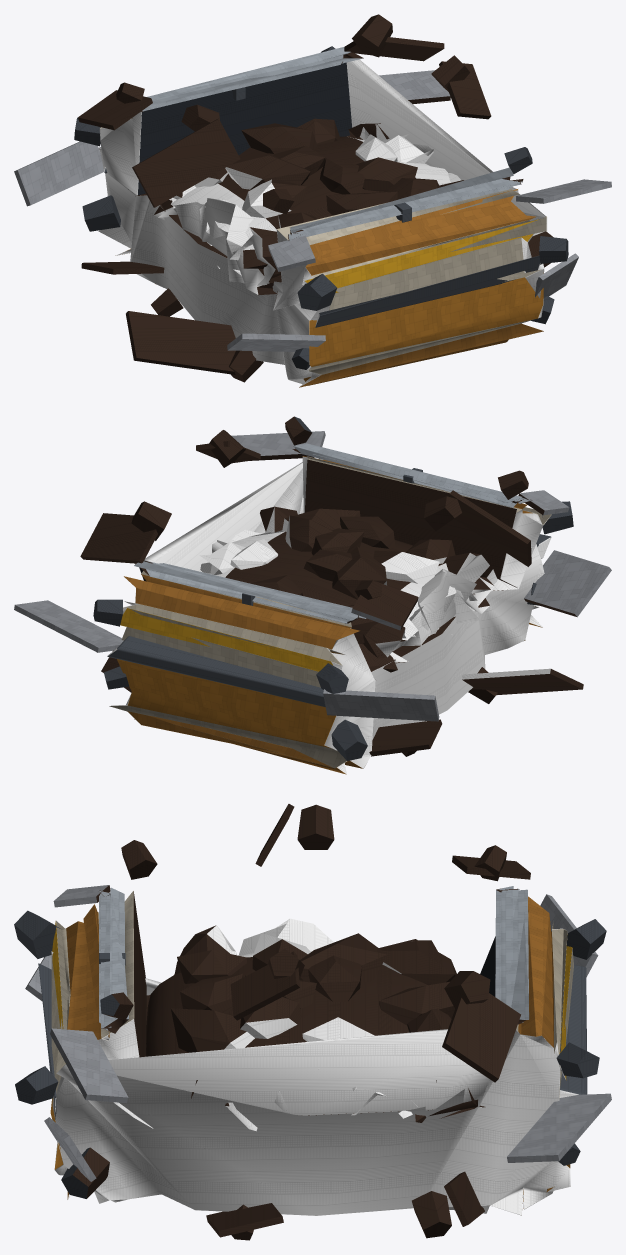
The model's file is wreck_ore_freighter_hopper.glb.
The picture shows the model from 3 angles, top to bottom: view 1: azimuth 30°, elevation 25°; view 2: azimuth 150°, elevation 25°; view 3: azimuth 270°, elevation 25°; orthographic projection. The views are drawn at different scales.
Visible parts, largest first — view 1: Hull, H0Heap, woundA_t_tear2, woundA_t_tear5, PipeRun_M, Strake_M, woundA_t_tear0, PipeRun, H0Ore6, H0Ore1, H0Ore11, woundB_t_tear1 (+29 smaller); view 2: Hull, H0Heap, Strake, PipeRun, woundA_t_tear3, woundA_t_tear0, PipeRun_M, woundB_t_tear2, woundB_t_tear1, woundA_t_tear2, woundA_t_tear5, woundA_t_tear1 (+27 smaller); view 3: Hull, H0Heap, woundB_t_tear2, PipeRun, woundB_t_tear1, woundB_t_tear4, PipeRun_M, H0Ore12, H0Ore7, woundB_t_tear3, H0Ore6, H0Ore11 (+29 smaller).
Part boxes in pixels (x1,y1,x2,y2): Hull: [98, 59, 547, 387]; H0Heap: [154, 136, 450, 295]; woundA_t_tear2: [126, 311, 235, 374]; woundA_t_tear5: [132, 118, 240, 207]; PipeRun_M: [288, 167, 523, 240]; Strake_M: [315, 255, 544, 327]; woundA_t_tear0: [14, 141, 104, 206]; PipeRun: [141, 47, 363, 111]; H0Ore6: [225, 147, 310, 189]; H0Ore1: [199, 198, 253, 268]; H0Ore11: [241, 123, 317, 153]; woundB_t_tear1: [379, 70, 450, 103]; Hull: [109, 456, 551, 774]; H0Heap: [203, 530, 490, 672]; Strake: [107, 636, 325, 707]; PipeRun: [134, 560, 366, 623]; woundA_t_tear3: [524, 550, 611, 617]; woundA_t_tear0: [323, 689, 439, 721]; PipeRun_M: [292, 443, 532, 508]; woundB_t_tear2: [80, 513, 157, 563]; woundB_t_tear1: [14, 600, 123, 652]; woundA_t_tear2: [461, 668, 583, 695]; woundA_t_tear5: [449, 490, 531, 566]; woundA_t_tear1: [369, 719, 442, 756]; Hull: [50, 891, 573, 1215]; H0Heap: [146, 951, 427, 1131]; woundB_t_tear2: [442, 993, 520, 1082]; PipeRun: [495, 886, 529, 1024]; woundB_t_tear1: [507, 1093, 611, 1162]; woundB_t_tear4: [50, 1028, 128, 1103]; PipeRun_M: [99, 887, 128, 1033]; H0Ore12: [171, 1008, 254, 1052]; H0Ore7: [379, 939, 456, 985]; woundB_t_tear3: [230, 951, 299, 1020]; H0Ore6: [299, 933, 387, 982]; H0Ore11: [379, 981, 454, 1025].
Bounding box in the file's own units: 49 × 25.44 × 47.13.
11 materials, 11 textured.
